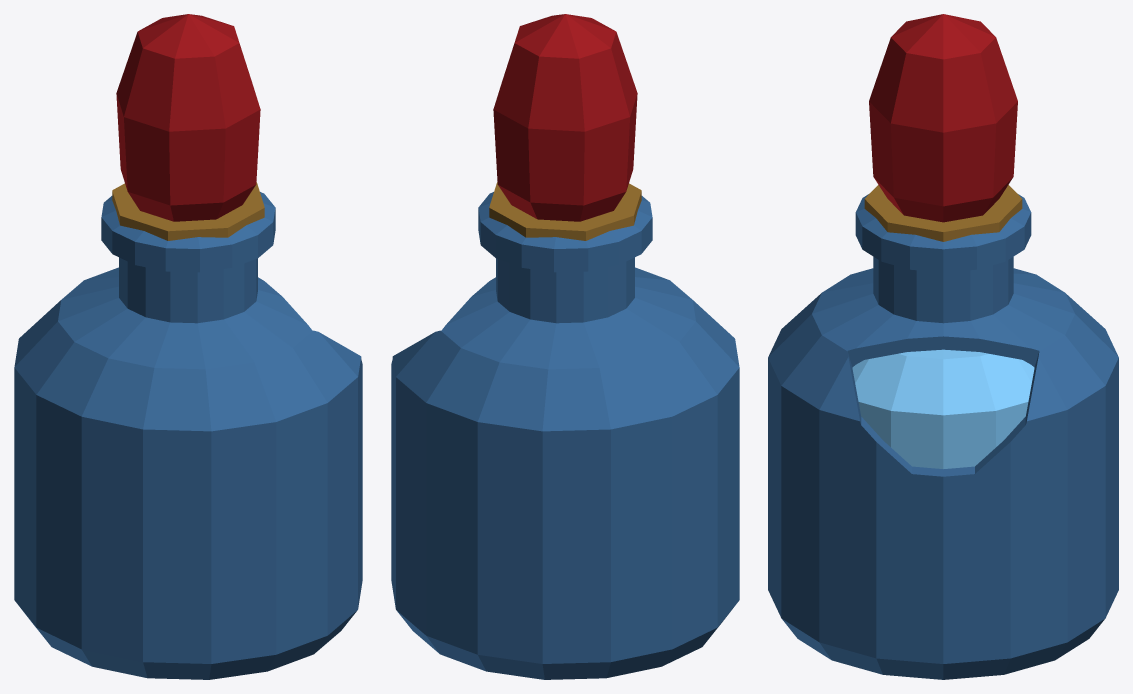
Rendered from soma_drop.obj.
3 views of the same model, side by side, from view 1: azimuth 30°, elevation 25°; view 2: azimuth 150°, elevation 25°; view 3: azimuth 270°, elevation 25° (orthographic).
Visible parts, largest first — view 1: A_Flask.001_soma_drop_glass, S_Bulb.001_soma_drop_wax, S_Cap.001_soma_drop_brass; view 2: A_Flask.001_soma_drop_glass, S_Bulb.001_soma_drop_wax, S_Cap.001_soma_drop_brass; view 3: A_Flask.001_soma_drop_glass, S_Bulb.001_soma_drop_wax, A_Liquid.001_soma_drop_liquid, S_Cap.001_soma_drop_brass.
Part boxes in pixels (bbox=[...]): A_Flask.001_soma_drop_glass: bbox=[14, 192, 362, 679]; S_Bulb.001_soma_drop_wax: bbox=[116, 14, 260, 221]; S_Cap.001_soma_drop_brass: bbox=[112, 182, 264, 240]; A_Flask.001_soma_drop_glass: bbox=[391, 192, 739, 679]; S_Bulb.001_soma_drop_wax: bbox=[493, 14, 637, 221]; S_Cap.001_soma_drop_brass: bbox=[489, 182, 641, 240]; A_Flask.001_soma_drop_glass: bbox=[768, 194, 1118, 679]; S_Bulb.001_soma_drop_wax: bbox=[869, 14, 1017, 222]; A_Liquid.001_soma_drop_liquid: bbox=[852, 349, 1034, 468]; S_Cap.001_soma_drop_brass: bbox=[864, 185, 1022, 241].
Size of the model in its own units: 1.19 by 2.25 by 1.19.
